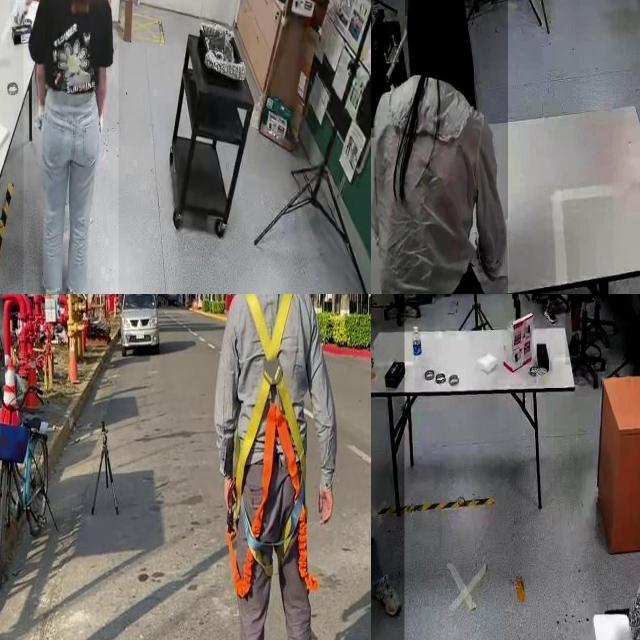Harness: (227, 403, 318, 600), (236, 294, 305, 492)
hand_glove: (10, 0, 29, 30)
head_nohelmet: (405, 0, 465, 17)
person: (371, 0, 508, 294), (23, 0, 118, 294), (565, 294, 640, 365)
shoes: (371, 562, 405, 622)
